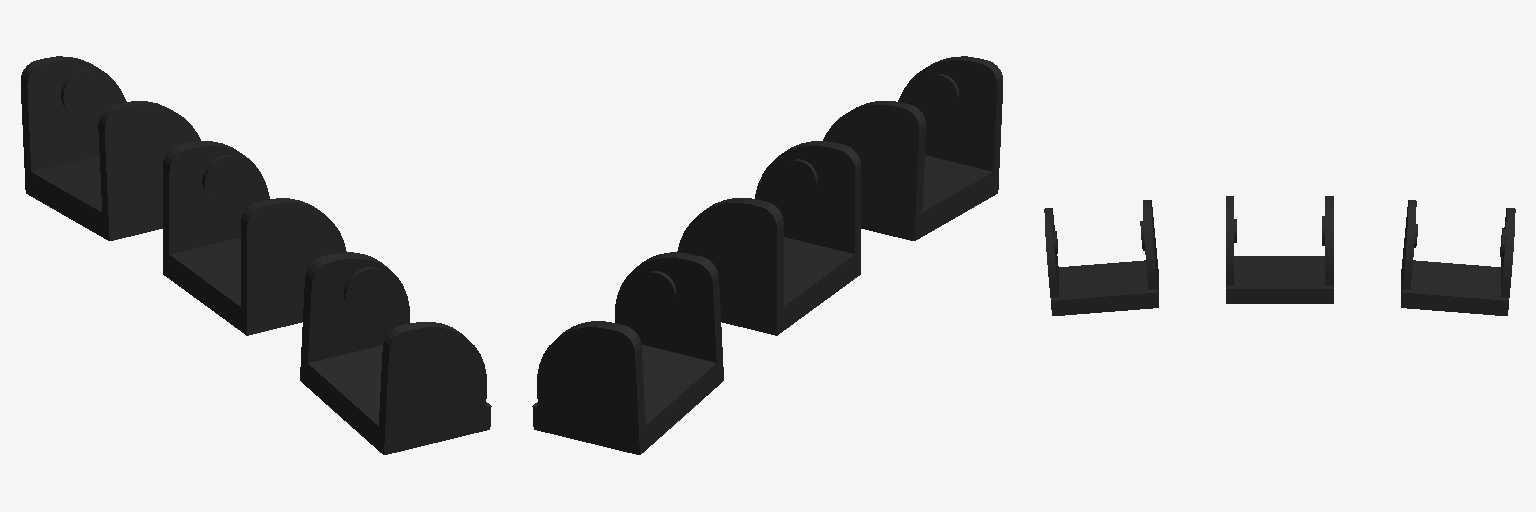
robot.urdf — AllegroHand_Left:
<?xml version="1.0" ?>
<!-- =================================================================================== -->
<!-- |    This document was autogenerated by xacro from allegro_hand_description_right.urdf.xacro | -->
<!-- |    EDITING THIS FILE BY HAND IS NOT RECOMMENDED                                 | -->
<!-- =================================================================================== -->
<robot name="AllegroHand_Left" xmlns:xacro="http://www.ros.org/wiki/xacro">
  <!--
rosrun xacro xacro.py allegro_hand_description_right.urdf.xacro > allegro_hand_description_right.urdf
roslaunch launchers/fuerte/allegro_hand_jgui_right_virtual.launch 
-->
  <!-- ======================== BASE PARAMS ========================= -->
  <!-- ======================== FINGER PARAMS ======================== -->
  <!-- full height from joint to tip. when used,
the radius of the finger tip sphere will be subtracted
and one fixed link will be added for the tip. -->
  <!-- ========================= THUMB PARAMS ========================= -->
  <!-- ========================= LIMITS ========================= -->
  <!-- ============================================================================= -->
  <!-- ============================================================================= -->
  <!-- ============================================================================= -->
  <!-- BASE -->
  <link name="base_link">
    <visual>
      <geometry>
        <mesh filename="package://allegro_hand_description/meshes/base_link.STL"/>
        <!--     drawing  estimate  estimate  -->
        <!--<box size="0.0408 0.1130 ${base_link_z}"/> -->
      </geometry>
      <!--<origin rpy="0 0 0" xyz="-0.009300 0 -${base_link_z/2}"/>-->
      <material name="black">
        <color rgba="0.2 0.2 0.2 1"/>
      </material>
    </visual>
    <collision>
      <geometry>
        <!--     drawing  estimate  estimate  -->
        <box size="0.0408 0.1130 0.095"/>
      </geometry>
      <origin rpy="0 0 0" xyz="-0.009300 0 -0.0475"/>
    </collision>
  </link>
  <!-- ============================================================================= -->
  <!-- FINGERS -->
  <!--0.0435,   0.044981-->
  <!--0.002298-->
  <!--0.002298-->
  <!-- RIGHT HAND due to which finger is number 0 -->
  <!-- for LEFT HAND switch the sign of the **offset_origin_y** and **finger_angle_r** parameters-->
  <link name="link_0.0">
    <visual>
      <geometry>
        <mesh filename="package://allegro_hand_description/meshes/link_0.0.STL"/>
        <!--<box size="${links_x} ${links_y} ${link0_z}"/>-->
      </geometry>
      <!--<origin rpy="0 0 0" xyz="0 0 ${link0_z/2}"/>-->
      <material name="black"/>
    </visual>
    <collision>
      <geometry>
        <box size="0.0196 0.0275 0.0164"/>
      </geometry>
      <origin rpy="0 0 0" xyz="0 0 0.0082"/>
    </collision>
  </link>
  <joint name="joint_0.0" type="revolute">
    <axis xyz="0 0 1"/>
    <limit effort="0" lower="-0.47" upper="0.47" velocity="0"/>
    <parent link="base_link"/>
    <child link="link_0.0"/>
    <origin rpy="-0.08726646255 0 0" xyz="0 0.0435 -0.001542"/>
  </joint>
  <link name="link_1.0">
    <visual>
      <geometry>
        <mesh filename="package://allegro_hand_description/meshes/link_1.0.STL"/>
        <!--<box size="${links_x} ${links_y} ${link1_z}"/>-->
      </geometry>
      <!--<origin rpy="0 0 0" xyz="0 0 ${link1_z/2}"/>-->
      <material name="black"/>
    </visual>
    <collision>
      <geometry>
        <box size="0.0196 0.0275 0.054"/>
      </geometry>
      <origin rpy="0 0 0" xyz="0 0 0.027"/>
    </collision>
  </link>
  <joint name="joint_1.0" type="revolute">
    <limit effort="0" lower="-0.196" upper="1.61" velocity="0"/>
    <axis xyz="0 1 0"/>
    <parent link="link_0.0"/>
    <child link="link_1.0"/>
    <origin xyz="0 0 0.0164"/>
  </joint>
  <link name="link_2.0">
    <visual>
      <geometry>
        <mesh filename="package://allegro_hand_description/meshes/link_2.0.STL"/>
        <!--<box size="${links_x} ${links_y} ${link2_z}"/>-->
      </geometry>
      <!--<origin rpy="0 0 0" xyz="0 0 ${link2_z/2}"/>-->
      <material name="black"/>
    </visual>
    <collision>
      <geometry>
        <box size="0.0196 0.0275 0.0384"/>
      </geometry>
      <origin rpy="0 0 0" xyz="0 0 0.0192"/>
    </collision>
  </link>
  <joint name="joint_2.0" type="revolute">
    <axis xyz="0 1 0"/>
    <limit effort="0" lower="-0.174" upper="1.709" velocity="0"/>
    <parent link="link_1.0"/>
    <child link="link_2.0"/>
    <origin xyz="0 0 0.054"/>
  </joint>
  <link name="link_3.0">
    <visual>
      <geometry>
        <mesh filename="package://allegro_hand_description/meshes/link_3.0.STL"/>
        <!--<box size="${links_x} ${links_y} ${link3_z-fingerTip_r}"/>-->
      </geometry>
      <!--<origin rpy="0 0 0" xyz="0 0 ${(link3_z-fingerTip_r)/2}"/>-->
      <material name="black"/>
    </visual>
    <collision>
      <geometry>
        <box size="0.0196 0.0275 0.0267"/>
      </geometry>
      <origin rpy="0 0 0" xyz="0 0 0.01335"/>
    </collision>
  </link>
  <joint name="joint_3.0" type="revolute">
    <axis xyz="0 1 0"/>
    <limit effort="0" lower="-0.227" upper="1.618" velocity="0"/>
    <parent link="link_2.0"/>
    <child link="link_3.0"/>
    <origin xyz="0 0 0.0384"/>
  </joint>
  <link name="link_3.0_tip">
    <visual>
      <geometry>
        <mesh filename="package://allegro_hand_description/meshes/link_3.0_tip.STL"/>
        <!--<sphere radius="${fingerTip_r}"/>-->
      </geometry>
      <!--<origin rpy="0 0 0" xyz="0 0 ${link3_z-fingerTip_r}"/>-->
      <material name="white">
        <color rgba=".9 .9 .9 1"/>
      </material>
    </visual>
    <collision>
      <geometry>
        <sphere radius="0.012"/>
      </geometry>
    </collision>
  </link>
  <joint name="joint_3.0_tip" type="fixed">
    <parent link="link_3.0"/>
    <child link="link_3.0_tip"/>
    <origin rpy="0 0 0" xyz="0 0 0.0267"/>
  </joint>
  <link name="link_4.0">
    <visual>
      <geometry>
        <mesh filename="package://allegro_hand_description/meshes/link_0.0.STL"/>
        <!--<box size="${links_x} ${links_y} ${link0_z}"/>-->
      </geometry>
      <!--<origin rpy="0 0 0" xyz="0 0 ${link0_z/2}"/>-->
      <material name="black"/>
    </visual>
    <collision>
      <geometry>
        <box size="0.0196 0.0275 0.0164"/>
      </geometry>
      <origin rpy="0 0 0" xyz="0 0 0.0082"/>
    </collision>
  </link>
  <joint name="joint_4.0" type="revolute">
    <axis xyz="0 0 1"/>
    <limit effort="0" lower="-0.47" upper="0.47" velocity="0"/>
    <parent link="base_link"/>
    <child link="link_4.0"/>
    <origin rpy="0.0 0 0" xyz="0 0 0.0007"/>
  </joint>
  <link name="link_5.0">
    <visual>
      <geometry>
        <mesh filename="package://allegro_hand_description/meshes/link_1.0.STL"/>
        <!--<box size="${links_x} ${links_y} ${link1_z}"/>-->
      </geometry>
      <!--<origin rpy="0 0 0" xyz="0 0 ${link1_z/2}"/>-->
      <material name="black"/>
    </visual>
    <collision>
      <geometry>
        <box size="0.0196 0.0275 0.054"/>
      </geometry>
      <origin rpy="0 0 0" xyz="0 0 0.027"/>
    </collision>
  </link>
  <joint name="joint_5.0" type="revolute">
    <limit effort="0" lower="-0.196" upper="1.61" velocity="0"/>
    <axis xyz="0 1 0"/>
    <parent link="link_4.0"/>
    <child link="link_5.0"/>
    <origin xyz="0 0 0.0164"/>
  </joint>
  <link name="link_6.0">
    <visual>
      <geometry>
        <mesh filename="package://allegro_hand_description/meshes/link_2.0.STL"/>
        <!--<box size="${links_x} ${links_y} ${link2_z}"/>-->
      </geometry>
      <!--<origin rpy="0 0 0" xyz="0 0 ${link2_z/2}"/>-->
      <material name="black"/>
    </visual>
    <collision>
      <geometry>
        <box size="0.0196 0.0275 0.0384"/>
      </geometry>
      <origin rpy="0 0 0" xyz="0 0 0.0192"/>
    </collision>
  </link>
  <joint name="joint_6.0" type="revolute">
    <axis xyz="0 1 0"/>
    <limit effort="0" lower="-0.174" upper="1.709" velocity="0"/>
    <parent link="link_5.0"/>
    <child link="link_6.0"/>
    <origin xyz="0 0 0.054"/>
  </joint>
  <link name="link_7.0">
    <visual>
      <geometry>
        <mesh filename="package://allegro_hand_description/meshes/link_3.0.STL"/>
        <!--<box size="${links_x} ${links_y} ${link3_z-fingerTip_r}"/>-->
      </geometry>
      <!--<origin rpy="0 0 0" xyz="0 0 ${(link3_z-fingerTip_r)/2}"/>-->
      <material name="black"/>
    </visual>
    <collision>
      <geometry>
        <box size="0.0196 0.0275 0.0267"/>
      </geometry>
      <origin rpy="0 0 0" xyz="0 0 0.01335"/>
    </collision>
  </link>
  <joint name="joint_7.0" type="revolute">
    <axis xyz="0 1 0"/>
    <limit effort="0" lower="-0.227" upper="1.618" velocity="0"/>
    <parent link="link_6.0"/>
    <child link="link_7.0"/>
    <origin xyz="0 0 0.0384"/>
  </joint>
  <link name="link_7.0_tip">
    <visual>
      <geometry>
        <mesh filename="package://allegro_hand_description/meshes/link_3.0_tip.STL"/>
        <!--<sphere radius="${fingerTip_r}"/>-->
      </geometry>
      <!--<origin rpy="0 0 0" xyz="0 0 ${link3_z-fingerTip_r}"/>-->
      <material name="white">
        <color rgba=".9 .9 .9 1"/>
      </material>
    </visual>
    <collision>
      <geometry>
        <sphere radius="0.012"/>
      </geometry>
    </collision>
  </link>
  <joint name="joint_7.0_tip" type="fixed">
    <parent link="link_7.0"/>
    <child link="link_7.0_tip"/>
    <origin rpy="0 0 0" xyz="0 0 0.0267"/>
  </joint>
  <link name="link_8.0">
    <visual>
      <geometry>
        <mesh filename="package://allegro_hand_description/meshes/link_0.0.STL"/>
        <!--<box size="${links_x} ${links_y} ${link0_z}"/>-->
      </geometry>
      <!--<origin rpy="0 0 0" xyz="0 0 ${link0_z/2}"/>-->
      <material name="black"/>
    </visual>
    <collision>
      <geometry>
        <box size="0.0196 0.0275 0.0164"/>
      </geometry>
      <origin rpy="0 0 0" xyz="0 0 0.0082"/>
    </collision>
  </link>
  <joint name="joint_8.0" type="revolute">
    <axis xyz="0 0 1"/>
    <limit effort="0" lower="-0.47" upper="0.47" velocity="0"/>
    <parent link="base_link"/>
    <child link="link_8.0"/>
    <origin rpy="0.08726646255 0 0" xyz="0 -0.0435 -0.001542"/>
  </joint>
  <link name="link_9.0">
    <visual>
      <geometry>
        <mesh filename="package://allegro_hand_description/meshes/link_1.0.STL"/>
        <!--<box size="${links_x} ${links_y} ${link1_z}"/>-->
      </geometry>
      <!--<origin rpy="0 0 0" xyz="0 0 ${link1_z/2}"/>-->
      <material name="black"/>
    </visual>
    <collision>
      <geometry>
        <box size="0.0196 0.0275 0.054"/>
      </geometry>
      <origin rpy="0 0 0" xyz="0 0 0.027"/>
    </collision>
  </link>
  <joint name="joint_9.0" type="revolute">
    <limit effort="0" lower="-0.196" upper="1.61" velocity="0"/>
    <axis xyz="0 1 0"/>
    <parent link="link_8.0"/>
    <child link="link_9.0"/>
    <origin xyz="0 0 0.0164"/>
  </joint>
  <link name="link_10.0">
    <visual>
      <geometry>
        <mesh filename="package://allegro_hand_description/meshes/link_2.0.STL"/>
        <!--<box size="${links_x} ${links_y} ${link2_z}"/>-->
      </geometry>
      <!--<origin rpy="0 0 0" xyz="0 0 ${link2_z/2}"/>-->
      <material name="black"/>
    </visual>
    <collision>
      <geometry>
        <box size="0.0196 0.0275 0.0384"/>
      </geometry>
      <origin rpy="0 0 0" xyz="0 0 0.0192"/>
    </collision>
  </link>
  <joint name="joint_10.0" type="revolute">
    <axis xyz="0 1 0"/>
    <limit effort="0" lower="-0.174" upper="1.709" velocity="0"/>
    <parent link="link_9.0"/>
    <child link="link_10.0"/>
    <origin xyz="0 0 0.054"/>
  </joint>
  <link name="link_11.0">
    <visual>
      <geometry>
        <mesh filename="package://allegro_hand_description/meshes/link_3.0.STL"/>
        <!--<box size="${links_x} ${links_y} ${link3_z-fingerTip_r}"/>-->
      </geometry>
      <!--<origin rpy="0 0 0" xyz="0 0 ${(link3_z-fingerTip_r)/2}"/>-->
      <material name="black"/>
    </visual>
    <collision>
      <geometry>
        <box size="0.0196 0.0275 0.0267"/>
      </geometry>
      <origin rpy="0 0 0" xyz="0 0 0.01335"/>
    </collision>
  </link>
  <joint name="joint_11.0" type="revolute">
    <axis xyz="0 1 0"/>
    <limit effort="0" lower="-0.227" upper="1.618" velocity="0"/>
    <parent link="link_10.0"/>
    <child link="link_11.0"/>
    <origin xyz="0 0 0.0384"/>
  </joint>
  <link name="link_11.0_tip">
    <visual>
      <geometry>
        <mesh filename="package://allegro_hand_description/meshes/link_3.0_tip.STL"/>
        <!--<sphere radius="${fingerTip_r}"/>-->
      </geometry>
      <!--<origin rpy="0 0 0" xyz="0 0 ${link3_z-fingerTip_r}"/>-->
      <material name="white">
        <color rgba=".9 .9 .9 1"/>
      </material>
    </visual>
    <collision>
      <geometry>
        <sphere radius="0.012"/>
      </geometry>
    </collision>
  </link>
  <joint name="joint_11.0_tip" type="fixed">
    <parent link="link_11.0"/>
    <child link="link_11.0_tip"/>
    <origin rpy="0 0 0" xyz="0 0 0.0267"/>
  </joint>
  <link name="link_12.0">
    <visual>
      <geometry>
        <!--<box size="${link0_t_x} ${link0_t_y} ${link0_t_z}"/>-->
        <mesh filename="package://allegro_hand_description/meshes/link_12.0_right.STL"/>
      </geometry>
      <!--<origin rpy="0 0 0" xyz="${-0.0358/2+0.027} ${0.034/2-0.026} ${0.045/2-0.008}"/>-->
      <material name="black">
        <color rgba=".2 .2 .2 1"/>
      </material>
    </visual>
    <collision>
      <geometry>
        <box size="0.0358 0.034 0.0455"/>
      </geometry>
      <origin rpy="0 0 0" xyz="0.0091 -0.009 0.0145"/>
    </collision>
  </link>
  <joint name="joint_12.0" type="revolute">
    <axis xyz="-1 0 0"/>
    <!--<limit effort="0" velocity="0" lower="${limit_0_t_low-joint_safety_margin}" upper="${limit_0_t_up-joint_safety_margin}" />-->
    <limit effort="0" lower="-1" upper="1" velocity="0"/>
    <parent link="base_link"/>
    <child link="link_12.0"/>
    <origin rpy="0 -1.65806278845 -1.5707963259" xyz="-0.0182 0.019333 -0.045987"/>
  </joint>
  <link name="link_13.0">
    <visual>
      <geometry>
        <!--<box size="${links_x} ${links_y} ${link1_t_z}"/>-->
        <mesh filename="package://allegro_hand_description/meshes/link_13.0.STL"/>
      </geometry>
      <!--<origin rpy="0 0 0" xyz="0 0 ${link1_t_z/2}"/>-->
      <material name="black">
      </material>
    </visual>
    <collision>
      <geometry>
        <box size="0.0196 0.0275 0.0177"/>
      </geometry>
      <origin rpy="0 0 0" xyz="0 0 0.00885"/>
    </collision>
  </link>
  <joint name="joint_13.0" type="revolute">
    <axis xyz="0 0 1"/>
    <limit effort="0" lower="-0.105" upper="1.163" velocity="0"/>
    <parent link="link_12.0"/>
    <child link="link_13.0"/>
    <!--<origin xyz="0 0 ${0.0552-0.0177}"/>-->
    <origin xyz="-0.027 0.005 0.0399"/>
  </joint>
  <link name="link_14.0">
    <visual>
      <geometry>
        <mesh filename="package://allegro_hand_description/meshes/link_14.0.STL"/>
        <!--<box size="${links_x} ${links_y} ${link2_t_z}"/>-->
      </geometry>
      <!--<origin rpy="0 0 0" xyz="0 0 ${link2_t_z/2}"/>-->
      <material name="black">
      </material>
    </visual>
    <collision>
      <geometry>
        <box size="0.0196 0.0275 0.0514"/>
      </geometry>
      <origin rpy="0 0 0" xyz="0 0 0.0257"/>
    </collision>
  </link>
  <joint name="joint_14.0" type="revolute">
    <axis xyz="0 1 0"/>
    <limit effort="0" lower="-0.189" upper="1.644" velocity="0"/>
    <parent link="link_13.0"/>
    <child link="link_14.0"/>
    <origin xyz="0 0 0.0177"/>
  </joint>
  <link name="link_15.0">
    <visual>
      <geometry>
        <mesh filename="package://allegro_hand_description/meshes/link_15.0.STL"/>
        <!--<box size="${links_x} ${links_y} ${link3_t_z-fingerTip_r}"/>-->
      </geometry>
      <!--<origin rpy="0 0 0" xyz="0 0 ${(link3_t_z-fingerTip_r)/2}"/>-->
      <material name="black">
      </material>
    </visual>
    <collision>
      <geometry>
        <box size="0.0196 0.0275 0.0423"/>
      </geometry>
      <origin rpy="0 0 0" xyz="0 0 0.02115"/>
    </collision>
  </link>
  <joint name="joint_15.0" type="revolute">
    <axis xyz="0 1 0"/>
    <limit effort="0" lower="-0.162" upper="1.719" velocity="0"/>
    <parent link="link_14.0"/>
    <child link="link_15.0"/>
    <origin xyz="0 0 0.0514"/>
  </joint>
  <link name="link_15.0_tip">
    <visual>
      <geometry>
        <mesh filename="package://allegro_hand_description/meshes/link_15.0_tip.STL"/>
        <!--<sphere radius="${fingerTip_r}"/>-->
      </geometry>
      <!--<origin rpy="0 0 0" xyz="0 0 ${link3_t_z-fingerTip_r}"/>-->
      <material name="white">
        <color rgba=".9 .9 .9 1"/>
      </material>
    </visual>
    <collision>
      <geometry>
        <sphere radius="0.012"/>
      </geometry>
      <origin rpy="0 0 0" xyz="0 0 0"/>
    </collision>
  </link>
  <joint name="joint_15.0_tip" type="fixed">
    <parent link="link_15.0"/>
    <child link="link_15.0_tip"/>
    <origin rpy="0 0 0" xyz="0 0 0.0423"/>
    <!--0.0267000000000005-->
  </joint>
  <!-- offset_origin_z=	"-0.07308" 
	
	
		finger_num=			"3" 
	offset_origin_x=	"-0.0182"	
	offset_origin_y=	"0.019333" 
	offset_origin_z=	"-0.044987"
	
	-->
  <!-- THE STL ORIGIN NEEDS TO BE FIXED. ALSO THESE NUMBERS NEED TO BE DERIVEDFROM DRAWING, NOT SOLIDOWRKS EXP URDF, see the drawing on the wiki -->
  <!--
<xacro:thumb_left
	finger_num=			"3" 
	offset_origin_x=	"-0.0182"	
	offset_origin_y=	"-0.0168753" 
	offset_origin_z=	"-0.07308" 
	
	
	finger_angle_r=		"0"
	finger_angle_p=		"-${95*DEG2RAD}"	
	finger_angle_y=		"${90*DEG2RAD}"
/>
-->
  <!-- -${95*DEG2RAD}    ${180*DEG2RAD} -->
  <!-- ============================================================================= -->
  <!-- LEFT -->
  <!-- THUMB -->
  <!-- Write code for left and right with proper changes
	(using variables for like comps) and include as 2 macros
	include both and comment unused for right and left -->
  <!-- END LEFT -->
  <!-- ============================================================================= -->
  <!-- ============================================================================= -->
  <!-- ============================================================================= -->
  <!-- THUMB MACROS -->
  <!-- NOT USING CORRECT MESHES -->
  <!-- [[END]] THUMB MACRO -->
  <!-- THREE FINGER MACRO -->
  <!-- [[END]] THREE FINGER MACRO -->
</robot>

--- Render facts (derived) ---
The picture shows the robot from 3 angles, left to right: view 1: azimuth 30°, elevation 25°; view 2: azimuth 150°, elevation 25°; view 3: azimuth 270°, elevation 25°; orthographic projection.
Robot: AllegroHand_Left — 21 links, 20 joints (16 revolute, 4 fixed); root link base_link; default pose: all joints at 0.
Links seen in each view (by area): view 1: link_8.0, link_4.0, link_0.0; view 2: link_0.0, link_4.0, link_8.0; view 3: link_0.0, link_8.0, link_4.0.
Link boxes in pixels (bbox=[...]): link_8.0: bbox=[300, 252, 491, 454]; link_4.0: bbox=[163, 141, 346, 335]; link_0.0: bbox=[21, 56, 200, 240]; link_0.0: bbox=[532, 252, 723, 454]; link_4.0: bbox=[677, 141, 860, 335]; link_8.0: bbox=[823, 56, 1002, 240]; link_0.0: bbox=[1401, 200, 1515, 315]; link_8.0: bbox=[1044, 200, 1158, 315]; link_4.0: bbox=[1226, 196, 1333, 303].
Size in the robot's own frame: 0.0196 by 0.118 by 0.0254 metres.
3 mesh visuals loaded from 11 distinct referenced files (1 binary STL); not drawn: 18 (reference not matched to a file when rendering).